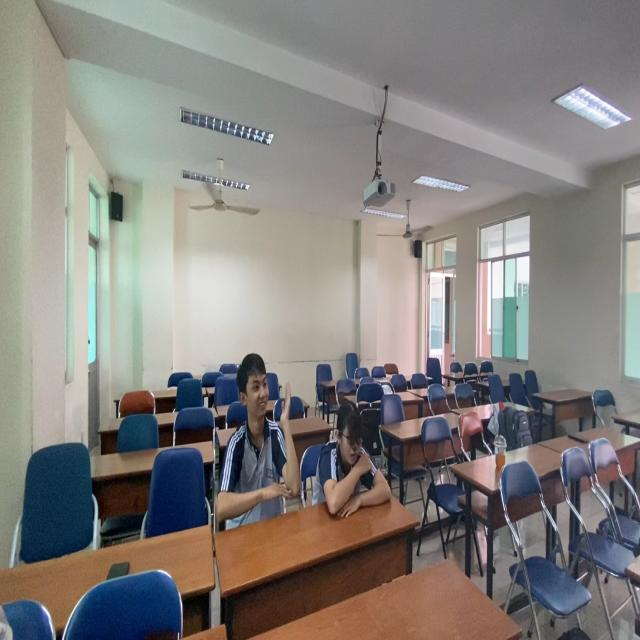raise_hand: (223, 338, 301, 512)
